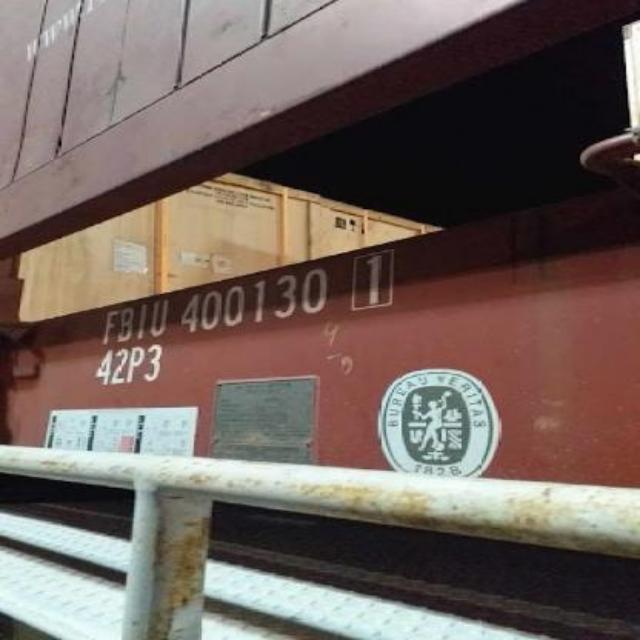0: (296, 266, 326, 318), (220, 285, 246, 331), (200, 290, 220, 334)
1: (344, 253, 400, 305), (244, 276, 270, 328)
3: (270, 272, 296, 320)
4: (172, 292, 200, 336)
B: (116, 304, 134, 346)
F: (92, 306, 118, 344)
I: (136, 299, 146, 343)
U: (148, 296, 168, 338)
